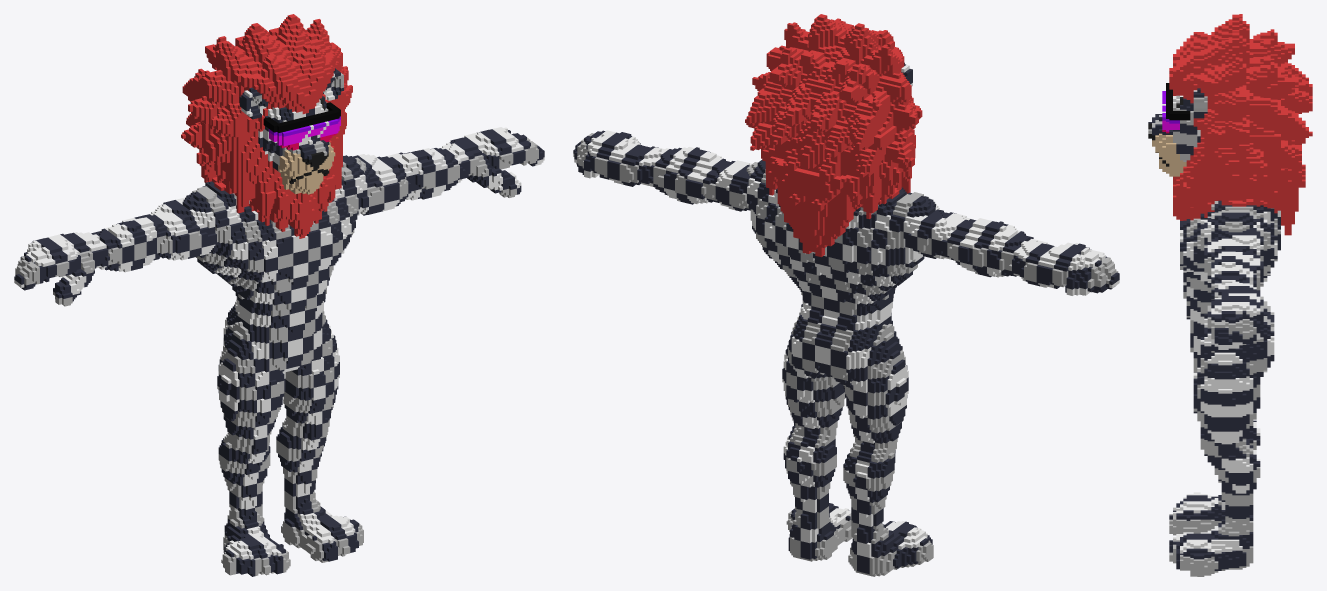
3 views of the same model, side by side, from view 1: azimuth 30°, elevation 25°; view 2: azimuth 150°, elevation 25°; view 3: azimuth 270°, elevation 25° (orthographic). The views are drawn at different scales.
Visible parts, largest first — view 1: sad; view 2: sad; view 3: sad.
Part boxes in pixels (x1=…): sad: x1=14, y1=14, x2=544, y2=576; sad: x1=573, y1=14, x2=1119, y2=576; sad: x1=1148, y1=14, x2=1312, y2=576.
Bounding box in the file's own units: 17.2 × 16.5 × 4.7.
Materials: 4 (4 with a texture image).
